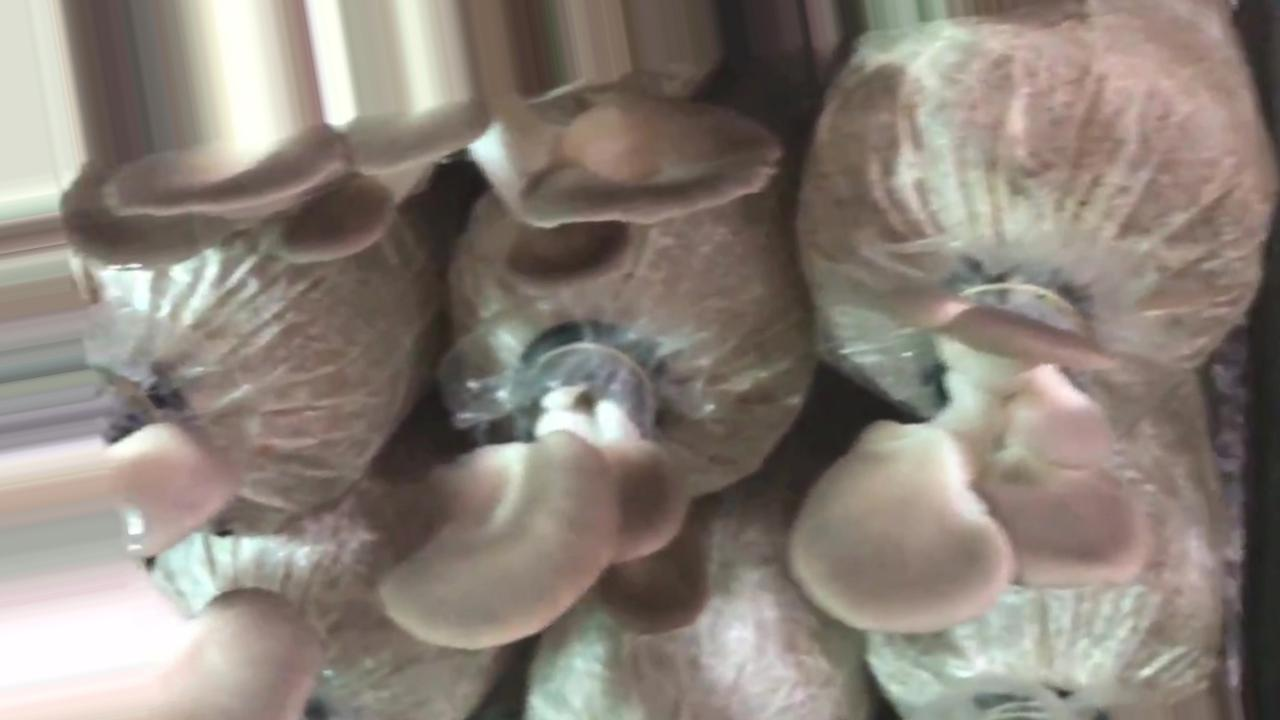nam: (64, 81, 802, 285), (791, 255, 1173, 634), (381, 331, 720, 653), (91, 368, 320, 720)
